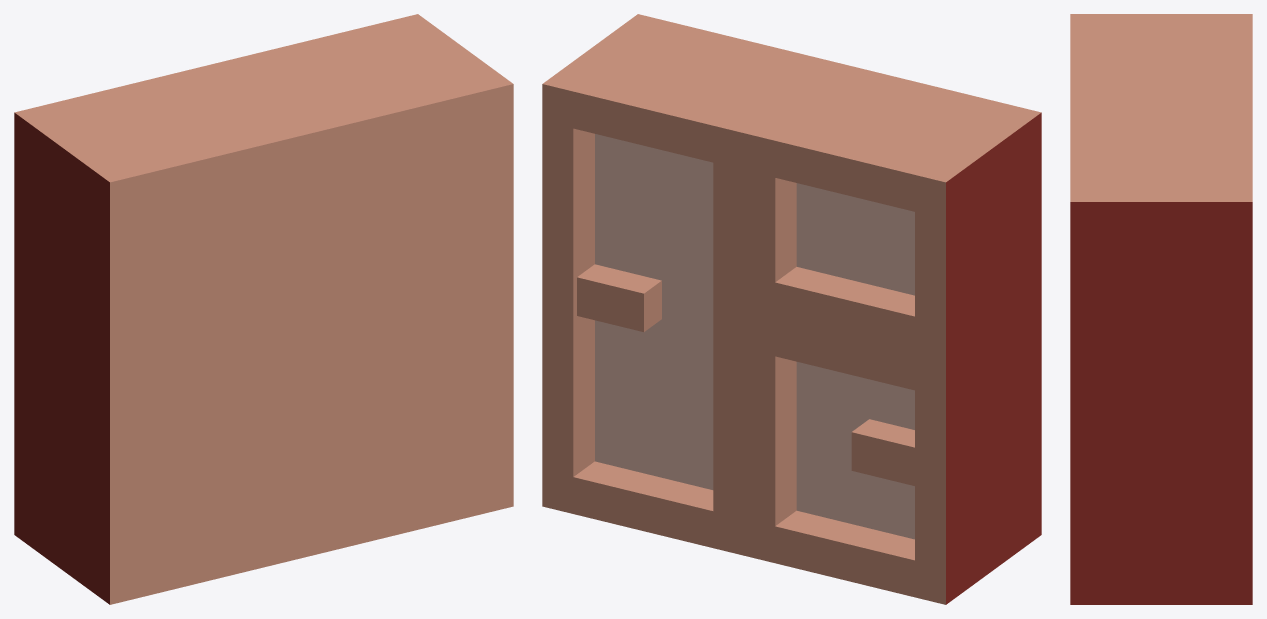
The model's file is Wardrobe.fbx.
The picture shows the model from 3 angles, left to right: view 1: azimuth 30°, elevation 25°; view 2: azimuth 150°, elevation 25°; view 3: azimuth 270°, elevation 25°; orthographic projection. The views are drawn at different scales.
Visible parts, largest first — view 1: Warderobe; view 2: Warderobe; view 3: Warderobe.
Boxes of the visible parts, bbox=[...] form: Warderobe: bbox=[14, 14, 513, 604]; Warderobe: bbox=[542, 14, 1041, 604]; Warderobe: bbox=[1070, 14, 1252, 604].
Size of the model in its own units: 200 by 200 by 82.05.
